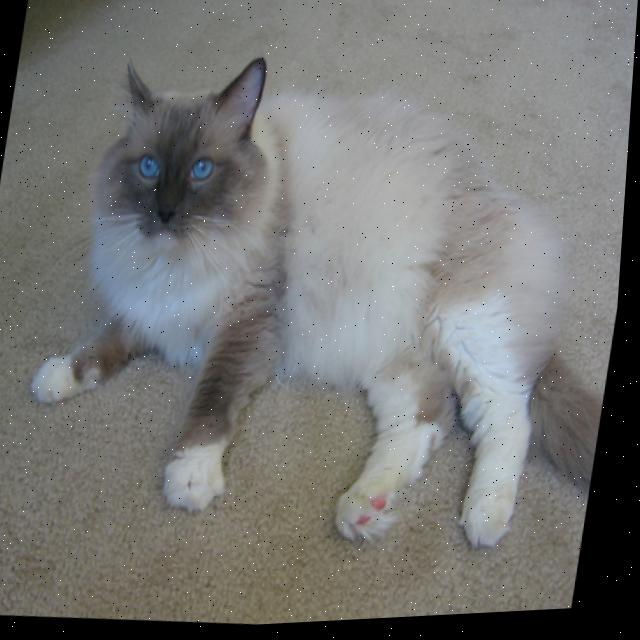Ragdoll: (7, 18, 638, 589)
